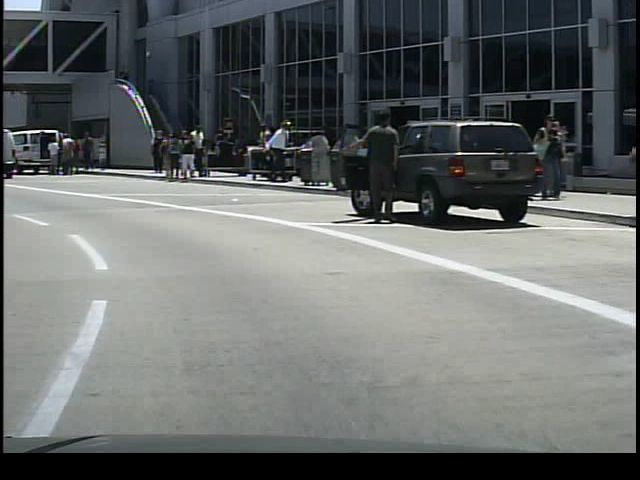person: (353, 111, 400, 229), (529, 108, 562, 198), (260, 114, 289, 186), (175, 130, 197, 180), (76, 128, 97, 175), (146, 127, 166, 173), (189, 123, 204, 179), (44, 136, 63, 177), (59, 131, 75, 178)
